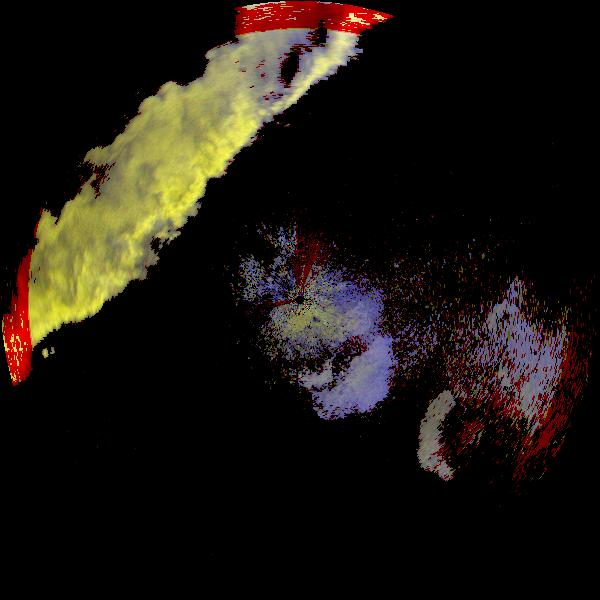roost: (210, 258, 426, 474), (394, 371, 532, 509)
